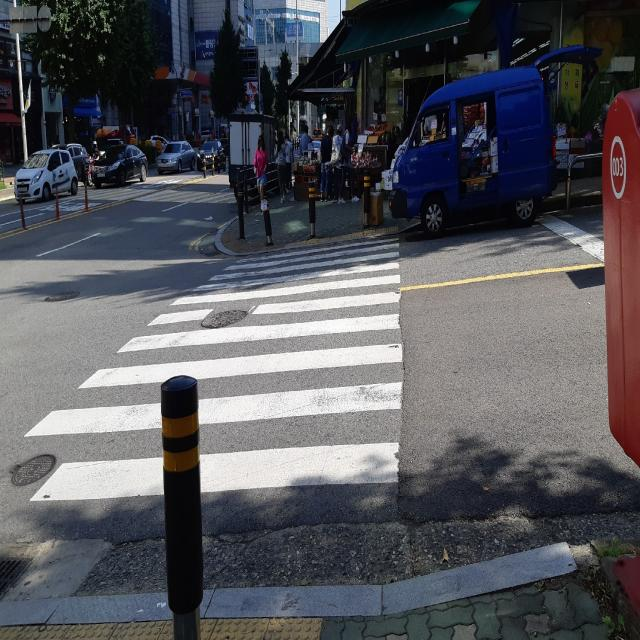횡단보도: (20, 232, 406, 510)
